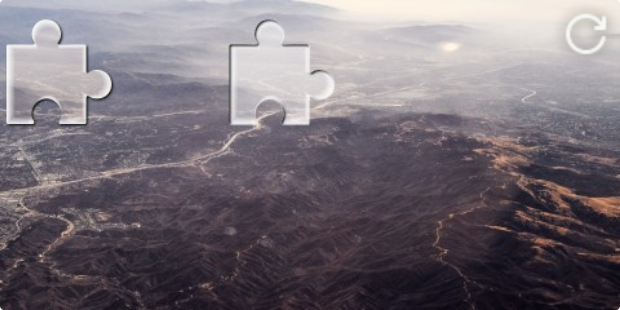target: (229, 20, 334, 125)
